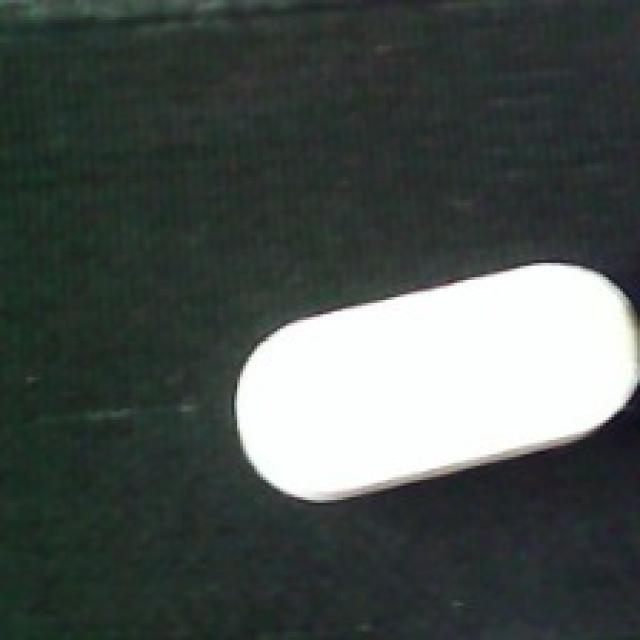no-defect: (228, 255, 640, 505)
